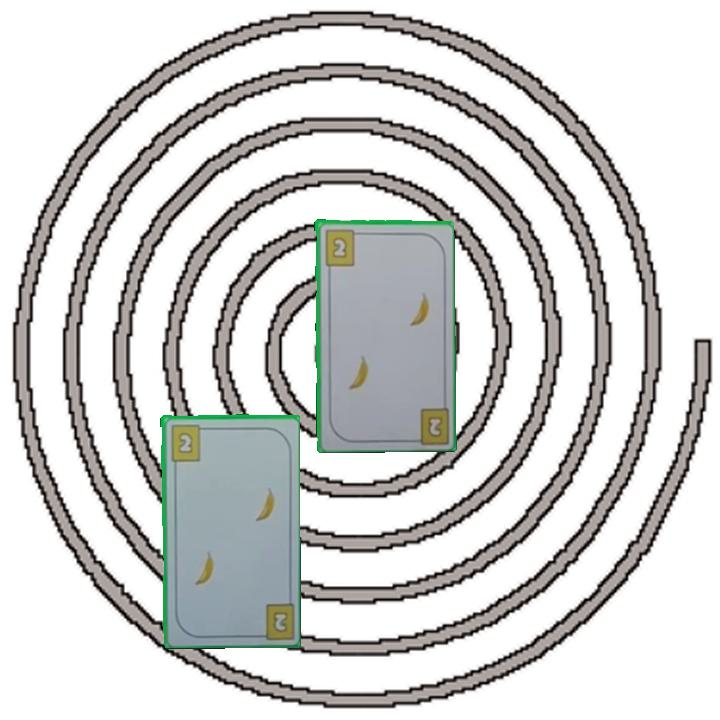2b: (251, 598, 295, 640), (167, 421, 209, 463), (321, 226, 363, 268), (425, 415, 443, 438)
